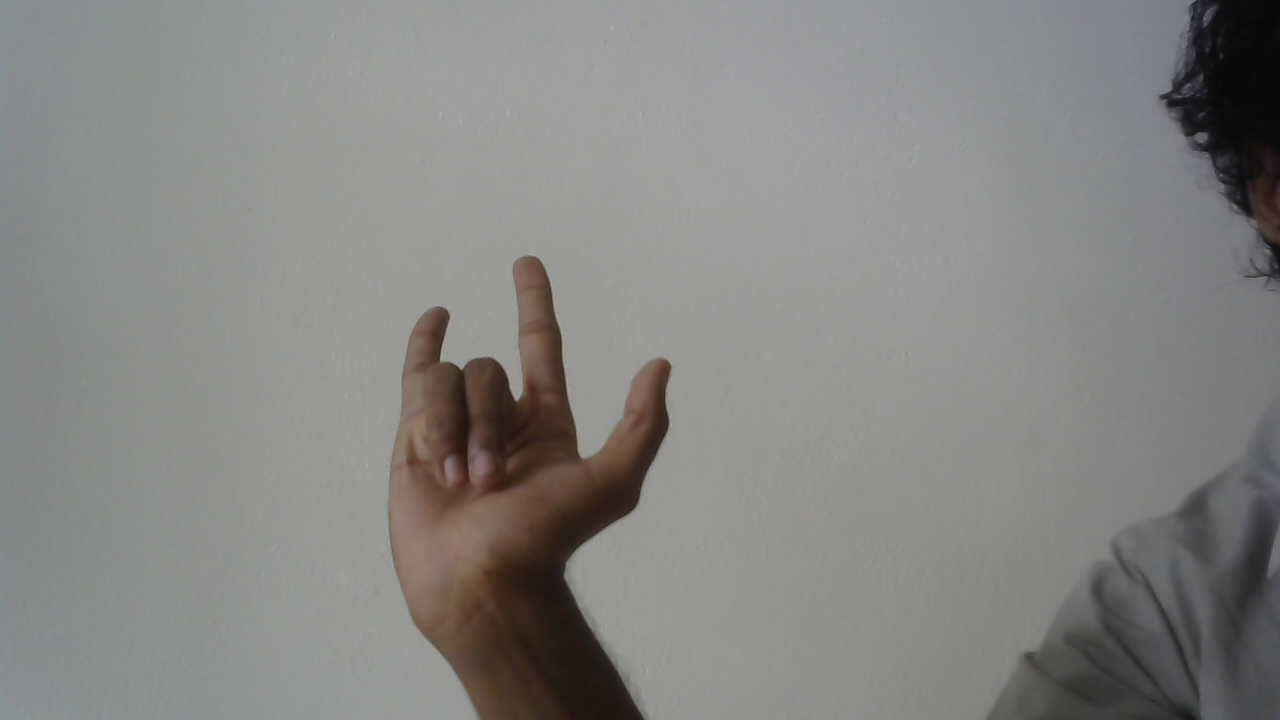iloveyou: (359, 240, 684, 665)
